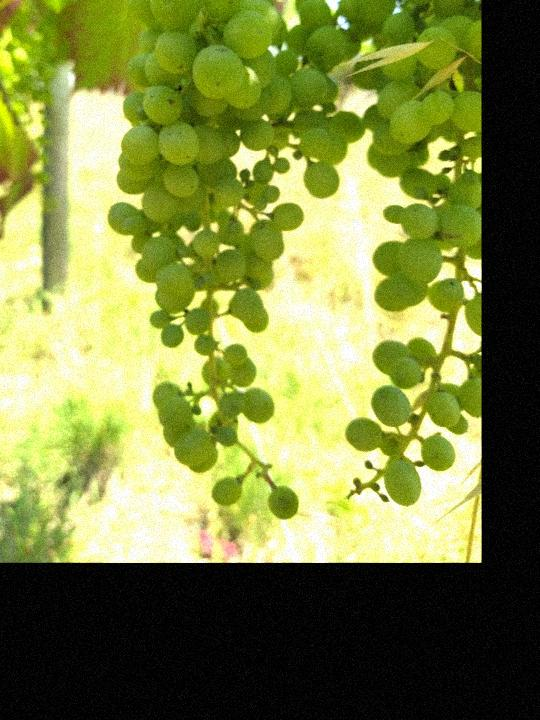grape: (105, 0, 363, 528)
